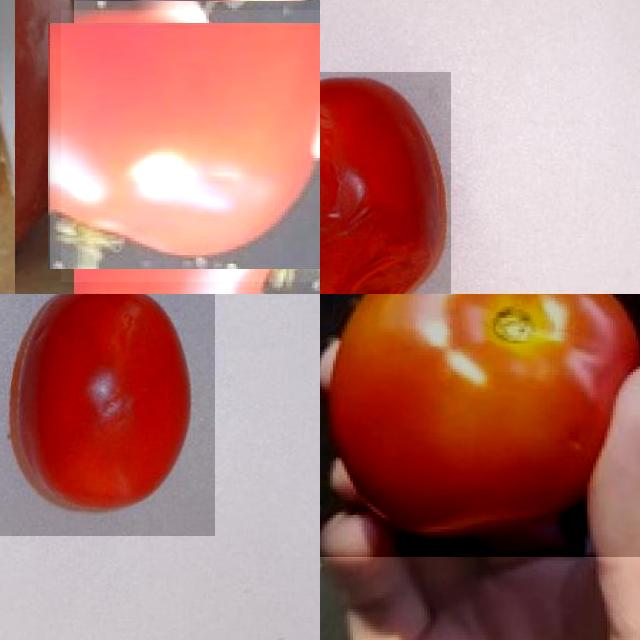0: (320, 294, 640, 557)
Fresh Tomato: (60, 9, 320, 282), (0, 294, 215, 535)
Rotten Tomato: (320, 72, 451, 294)
